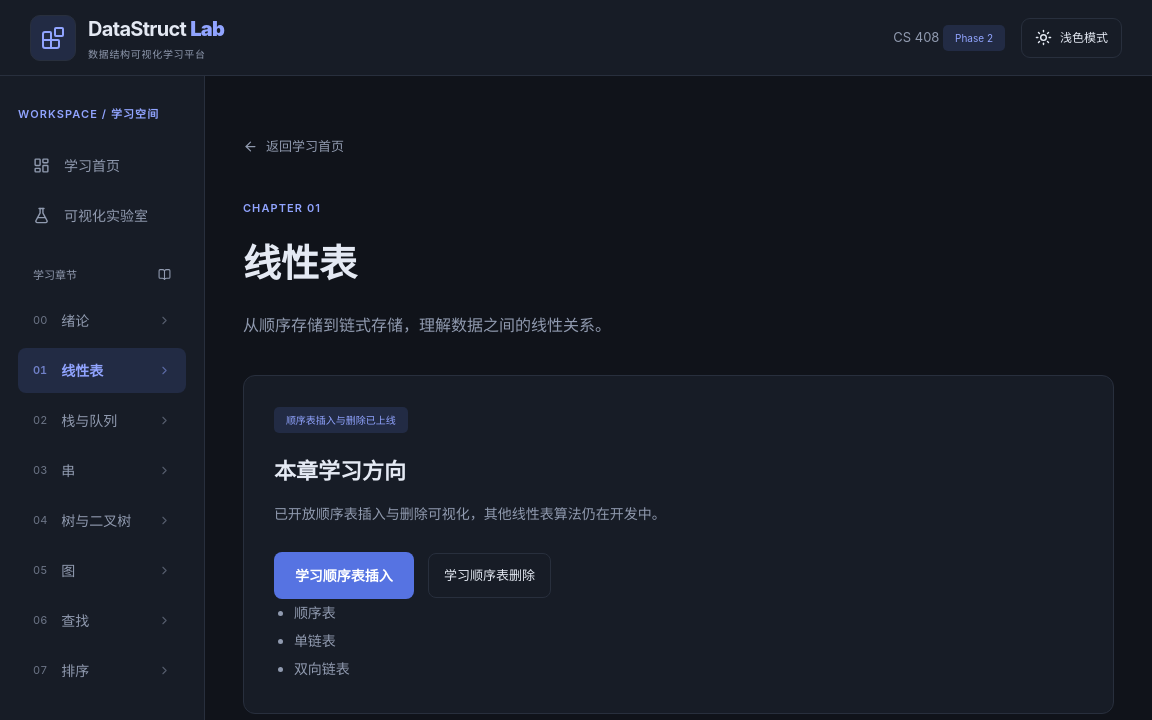
it: 顺序表插入页面 › 线性表章节入口可到达算法，其他算法仍未开放
Click the link "学习顺序表插入". click: (344, 575)
box: [274,552,414,599]
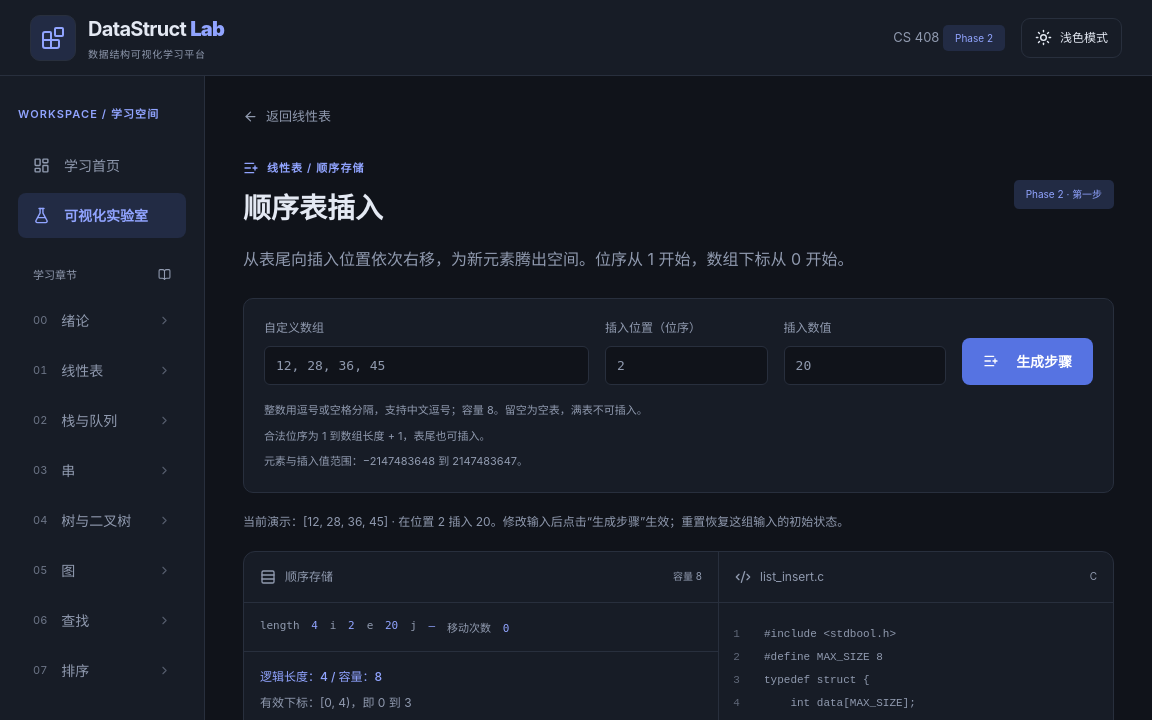
Expected: the link "01 线性表" is shown, [33,362,171,379]
Now the heading "顺序表插入" is shown, box [243,186,383,228]
